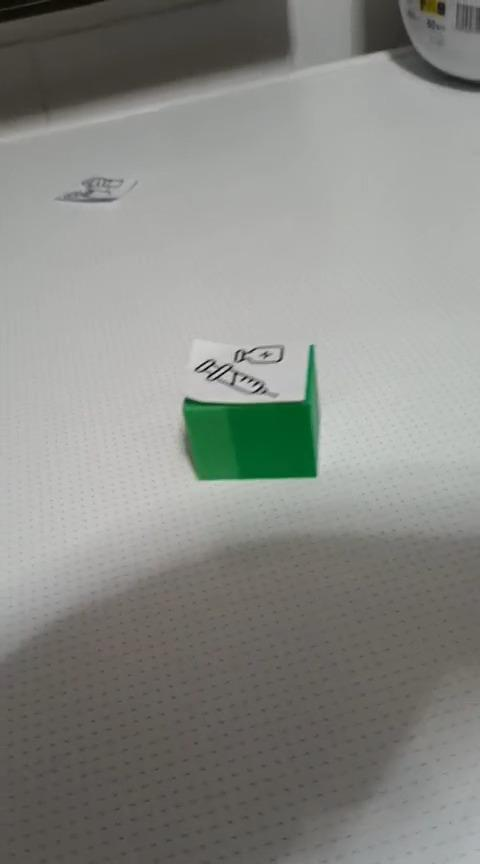antiseptic cream: (179, 336, 321, 481)
